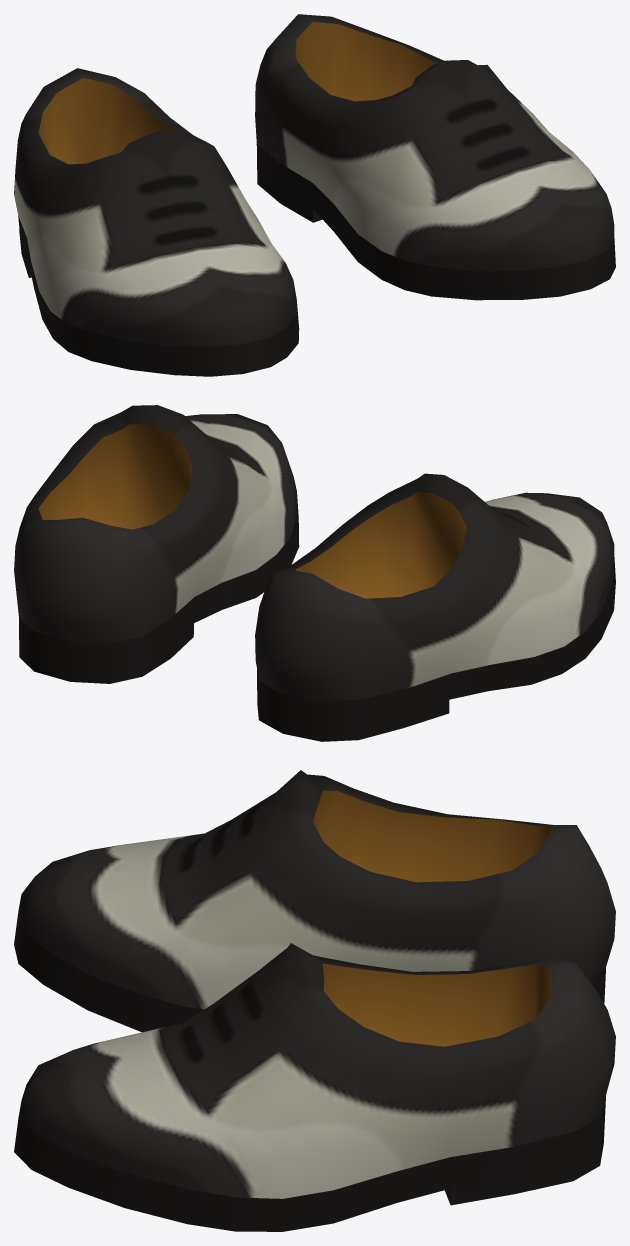
The model's file is ShoesLowcutWing0.glb.
3 views of the same model, one above another, from view 1: azimuth 30°, elevation 25°; view 2: azimuth 150°, elevation 25°; view 3: azimuth 270°, elevation 25° (orthographic). The views are drawn at different scales.
Parts seen in each view (by area): view 1: Body__mShoes; view 2: Body__mShoes; view 3: Body__mShoes.
Part boxes in pixels (x1=…): Body__mShoes: x1=14, y1=14, x2=615, y2=376; Body__mShoes: x1=14, y1=405, x2=615, y2=741; Body__mShoes: x1=14, y1=770, x2=615, y2=1231.
Size of the model in its own units: 3.28 by 1.07 by 2.69.
1 material, 1 textured.
